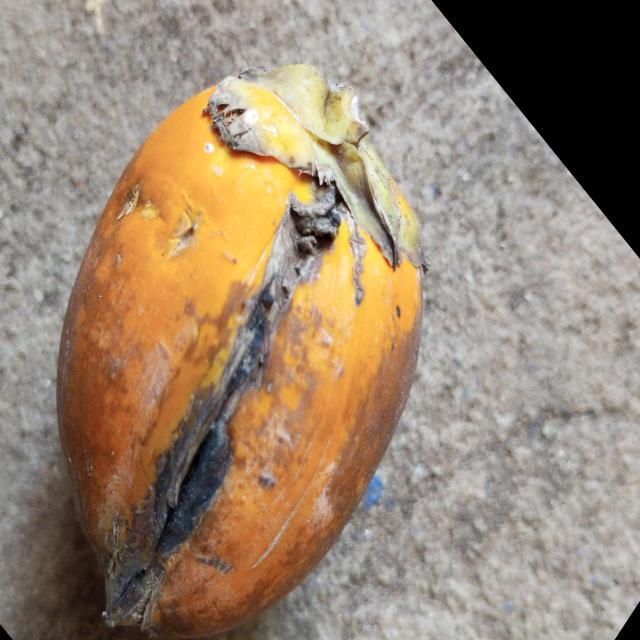damaged: (53, 63, 424, 640)
